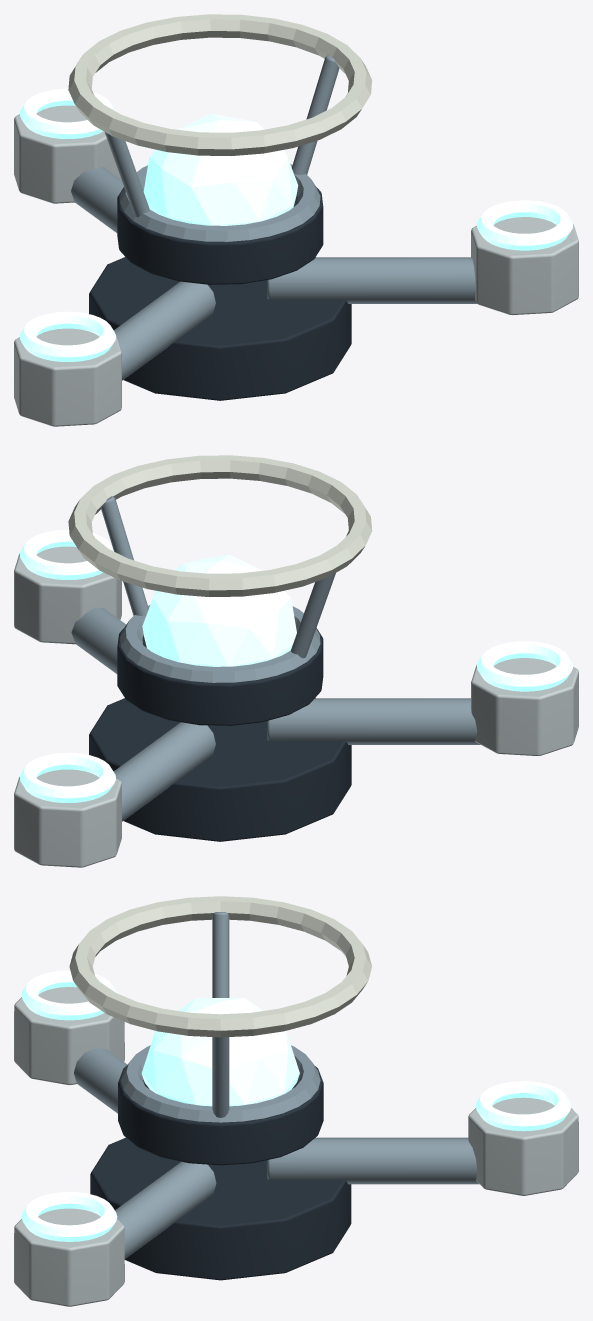
The model's file is angel_farol.glb.
3 renders of one model, top to bottom at view 1: azimuth 30°, elevation 25°; view 2: azimuth 150°, elevation 25°; view 3: azimuth 270°, elevation 25°, orthographic.
Visible parts, largest first — view 1: angel | Graphite chassis, angel | Titanium, angel | FAROL | armor, angel | FAROL | energy, angel | Ivory identification; view 2: angel | Graphite chassis, angel | Titanium, angel | FAROL | armor, angel | FAROL | energy, angel | Ivory identification; view 3: angel | Graphite chassis, angel | Titanium, angel | FAROL | armor, angel | FAROL | energy, angel | Ivory identification.
Boxes of the visible parts, left/top/right/bottom form: angel | Graphite chassis: left=89, top=187, right=351, bottom=400; angel | Titanium: left=71, top=55, right=476, bottom=380; angel | FAROL | armor: left=14, top=105, right=578, bottom=426; angel | FAROL | energy: left=20, top=88, right=572, bottom=361; angel | Ivory identification: left=68, top=14, right=372, bottom=155; angel | Graphite chassis: left=89, top=627, right=351, bottom=841; angel | Titanium: left=71, top=496, right=480, bottom=821; angel | FAROL | armor: left=14, top=546, right=578, bottom=867; angel | FAROL | energy: left=20, top=529, right=572, bottom=802; angel | Ivory identification: left=68, top=455, right=372, bottom=596; angel | Graphite chassis: left=90, top=1066, right=351, bottom=1280; angel | Titanium: left=74, top=912, right=479, bottom=1258; angel | FAROL | armor: left=14, top=987, right=578, bottom=1306; angel | FAROL | energy: left=21, top=970, right=571, bottom=1241; angel | Ivory identification: left=69, top=896, right=371, bottom=1037.
Bounding box in the file's own units: 1.36 × 0.6367 × 1.21.
